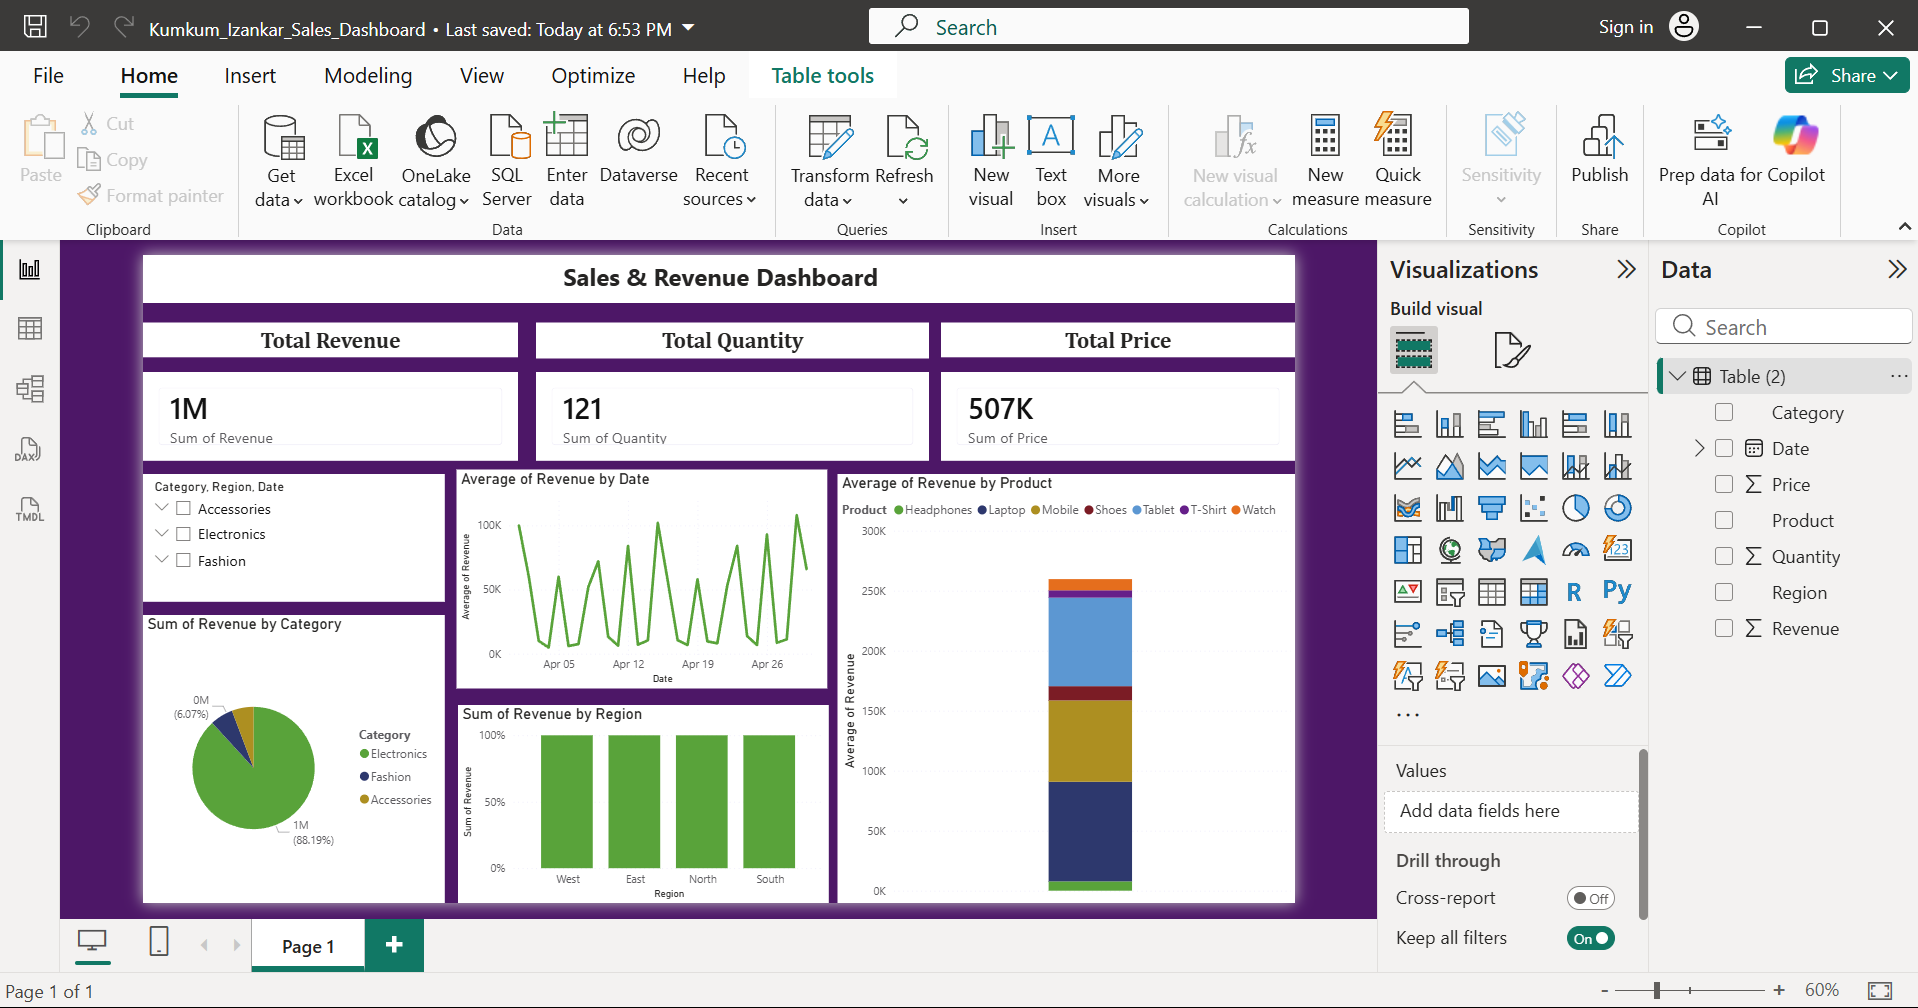

The page's visual inventory and layout, read from the dashboard file:
{"tool":"powerbi","page":{"name":"Page 1","canvas":[1280,720],"ordinal":0},"visuals":[{"type":"cardVisual","fields":{"Data":["Sum(Table (2).Revenue)"]},"box":[0,130,416.7,98.3],"z":0},{"type":"textbox","box":[0,75,416.7,38.3],"z":1000},{"type":"cardVisual","fields":{"Data":["Sum(Table (2).Quantity)"]},"box":[436.7,130,436.7,98.3],"z":2000},{"type":"textbox","box":[436.7,75,436.7,40],"z":3000},{"type":"cardVisual","fields":{"Data":["Sum(Table (2).Price)"]},"box":[886.7,130,393.3,98.3],"z":4000},{"type":"textbox","box":[886.7,75,393.3,38.3],"z":5000},{"type":"columnChart","fields":{"Y":["Avg(Table (2).Revenue)"],"Series":["Table (2).Product"]},"box":[771.7,243.3,508.3,476.7],"z":6000},{"type":"lineChart","fields":{"Category":["Table (2).Date"],"Y":["Avg(Table (2).Revenue)"]},"box":[348.3,238.3,411.7,243.3],"z":7000},{"type":"pieChart","fields":{"Category":["Table (2).Category"],"Y":["Sum(Table (2).Revenue)"]},"box":[0,400,335,320],"z":8000},{"type":"hundredPercentStackedColumnChart","fields":{"Category":["Table (2).Region"],"Y":["Sum(Table (2).Revenue)"]},"box":[350,500,411.7,220],"z":9000},{"type":"slicer","fields":{"Values":["Table (2).Category","Table (2).Region","Table (2).Date"]},"box":[0,243.3,335,141.7],"z":10000},{"type":"textbox","box":[0,0,1280,53.3],"z":11000}]}

Visuals, with their boxes on the page's 1280x720 design canvas (x1, y1, x2, y2). These are canvas units, not pixel positions in the 1918x1008 screenshot, which may show the page scaled, cropped or inside an application window:
cardVisual - Sum(Table (2).Revenue): locate(0, 130, 417, 228)
textbox: locate(0, 75, 417, 113)
cardVisual - Sum(Table (2).Quantity): locate(437, 130, 873, 228)
textbox: locate(437, 75, 873, 115)
cardVisual - Sum(Table (2).Price): locate(887, 130, 1280, 228)
textbox: locate(887, 75, 1280, 113)
columnChart - Avg(Table (2).Revenue) x Table (2).Product: locate(772, 243, 1280, 720)
lineChart - Table (2).Date x Avg(Table (2).Revenue): locate(348, 238, 760, 482)
pieChart - Table (2).Category x Sum(Table (2).Revenue): locate(0, 400, 335, 720)
hundredPercentStackedColumnChart - Table (2).Region x Sum(Table (2).Revenue): locate(350, 500, 762, 720)
slicer - Table (2).Category x Table (2).Region: locate(0, 243, 335, 385)
textbox: locate(0, 0, 1280, 53)
